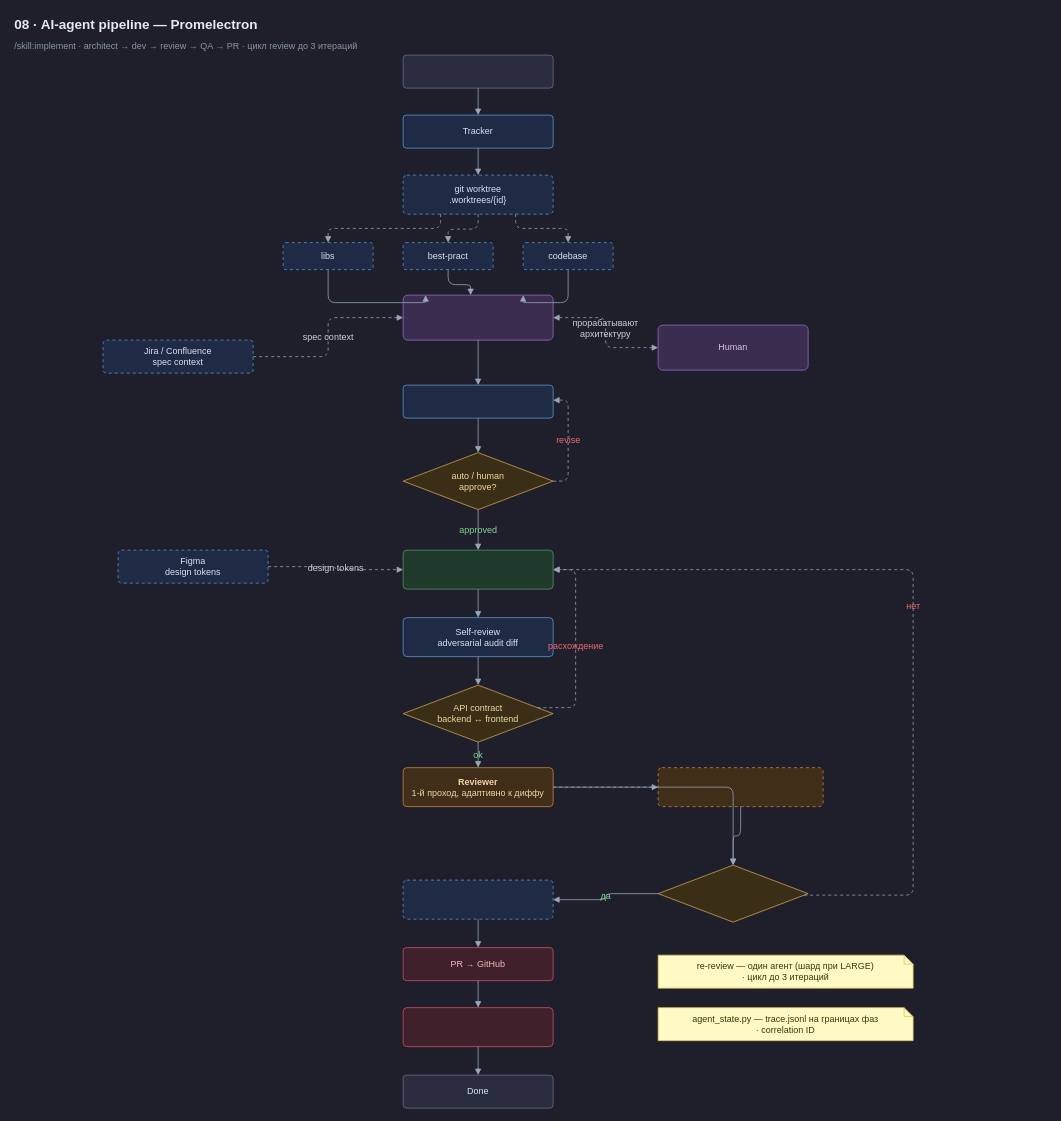
Some shapes in this 1061 by 1121 pixel diagram are drawn without their labels. The shapes that lost their labels are listed below. From the top down, each one's box as (x1, y1, x2, y2) in pixels, then its label:
(402, 54, 553, 88): /skill:*
(402, 294, 553, 340): Architect ⚠ plan mode required
(402, 384, 553, 418): PLAN.md / spec.md
(402, 549, 553, 589): Developer backend / frontend / devops
(657, 767, 823, 807): security-reviewer (security-sensitive diff)
(402, 879, 553, 919): QA Gate опционально · --qa
(657, 864, 808, 922): APPROVED?
(402, 1007, 553, 1047): Knowledge Capture уроки → rules / skills / docs
